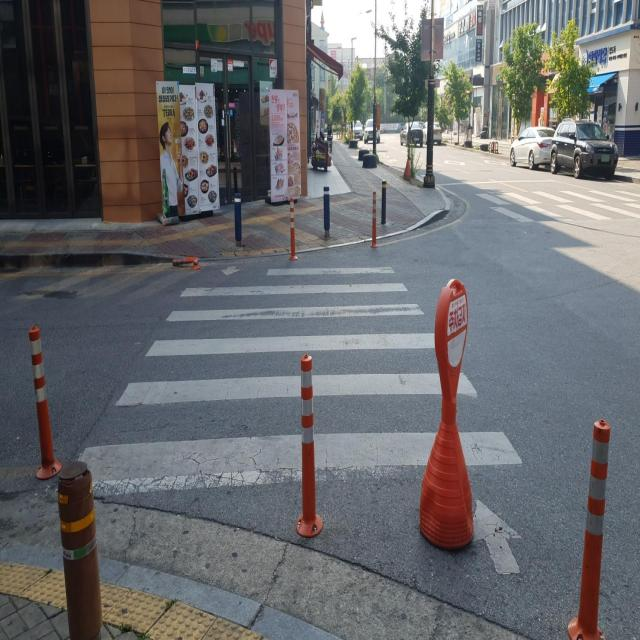횡단보도: (76, 259, 525, 581), (474, 185, 640, 227)
